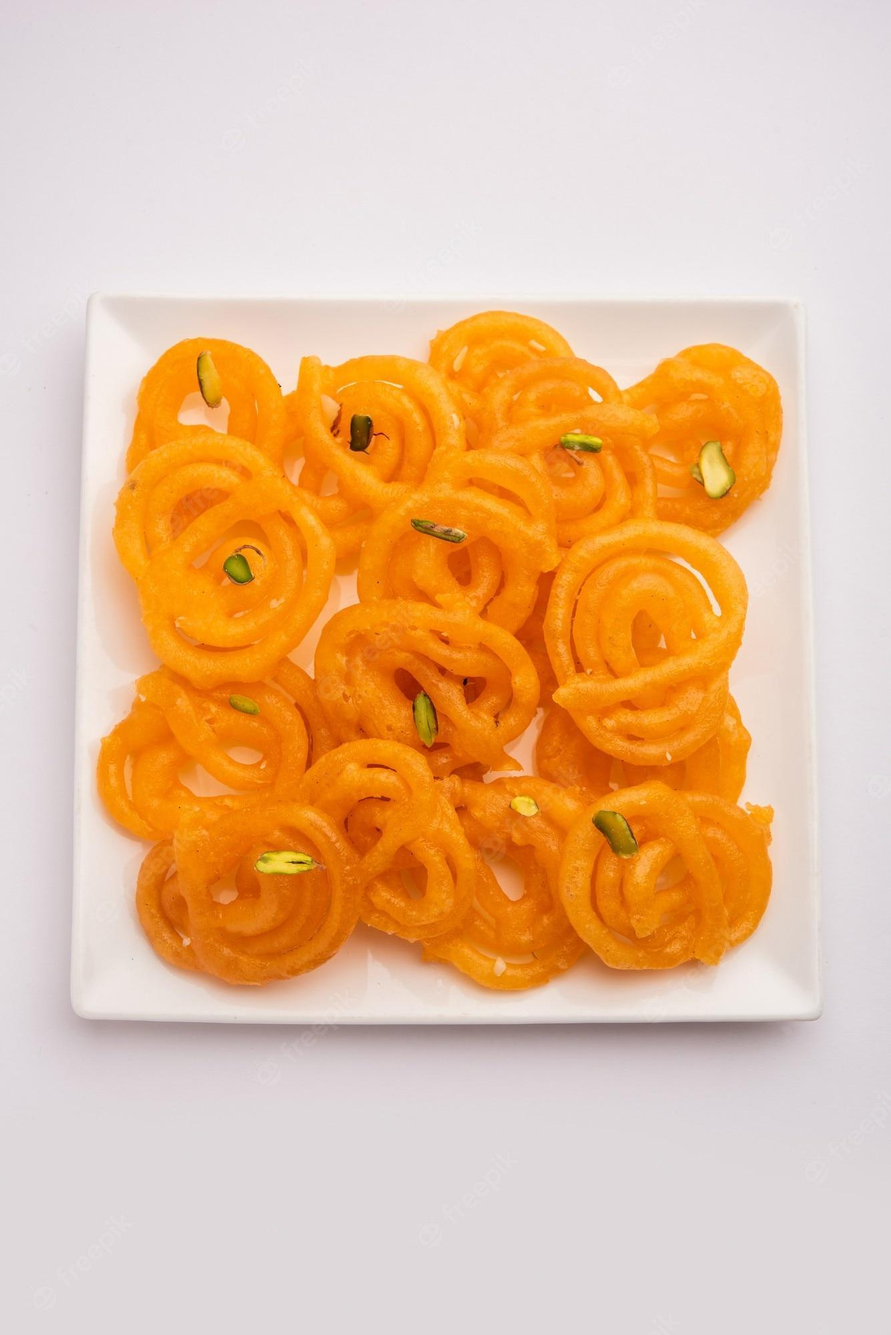jalebi: (120, 332, 784, 981)
